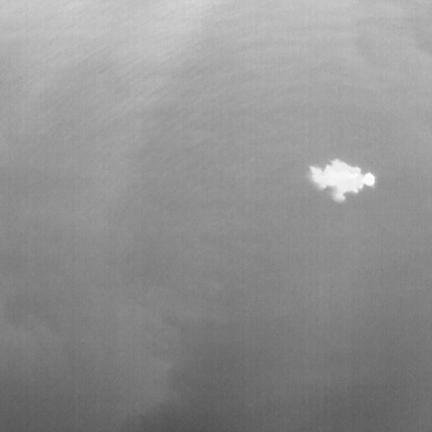flukeprints: (309, 159, 375, 202)
